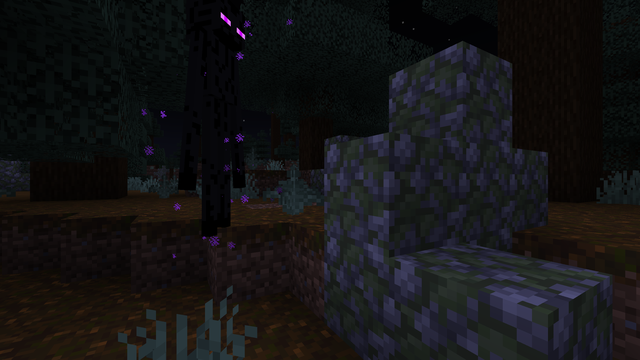endermens: (189, 0, 246, 235)
